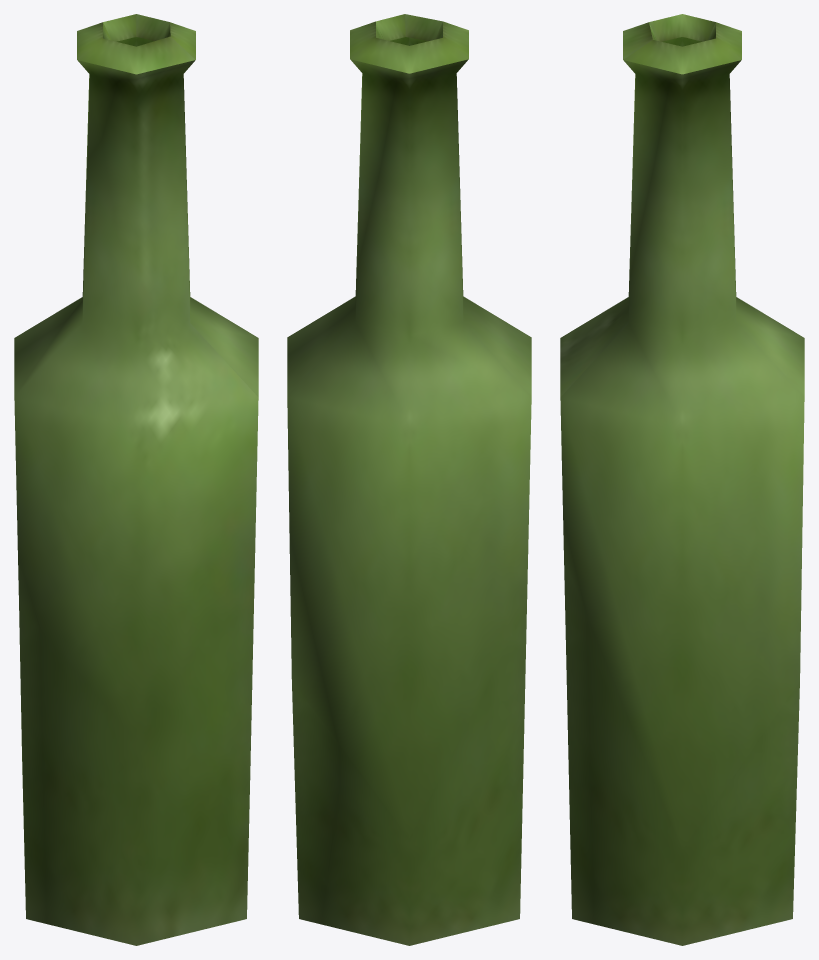
File: pir_m_prp_hsw_bottle_destructible.fbx
3 views of the same model, side by side, from view 1: azimuth 30°, elevation 25°; view 2: azimuth 150°, elevation 25°; view 3: azimuth 270°, elevation 25° (orthographic).
Visible parts, largest first — view 1: bottleTop_outside, bottleBottom_outside; view 2: bottleTop_outside, bottleBottom_outside; view 3: bottleTop_outside, bottleBottom_outside.
Part boxes in pixels (x1,y1,x2,y2): bottleTop_outside: (14,14,258,740); bottleBottom_outside: (19,559,254,945); bottleTop_outside: (287,14,531,838); bottleBottom_outside: (292,606,526,945); bottleTop_outside: (560,14,804,849); bottleBottom_outside: (564,559,799,945).
Size of the model in its own units: 29.04 by 97.94 by 25.15.
1 material, 1 textured.
